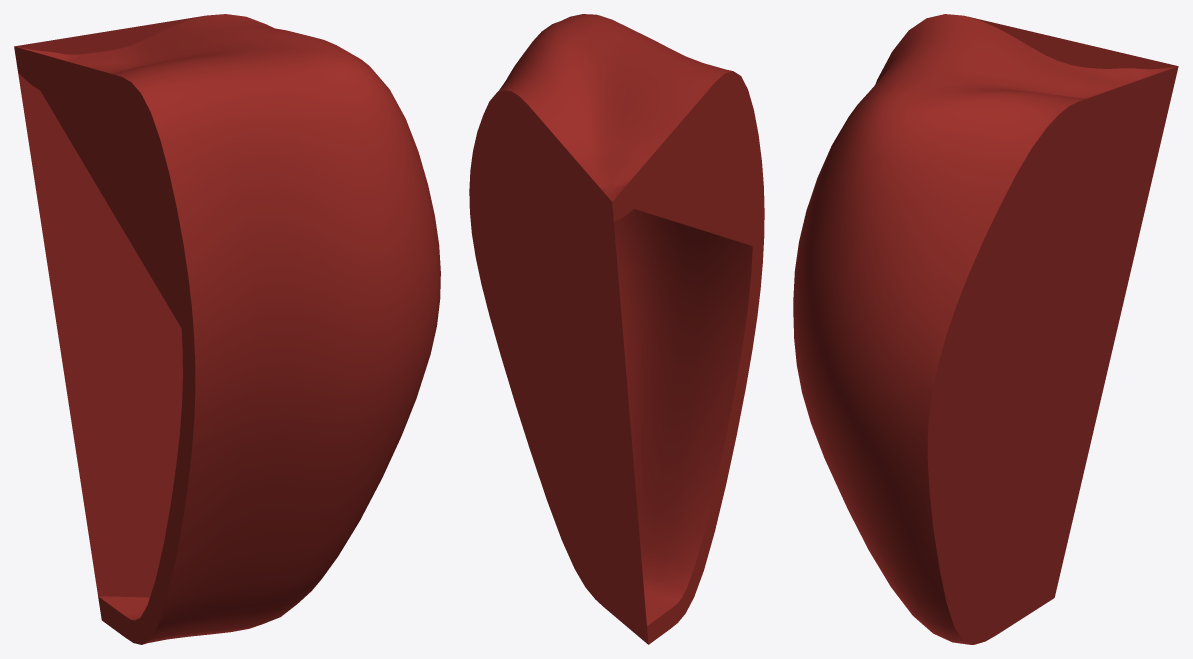
The model's file is Pepper_Slice_02.fbx.
3 renders of one model, left to right at view 1: azimuth 30°, elevation 25°; view 2: azimuth 150°, elevation 25°; view 3: azimuth 270°, elevation 25°, orthographic. The views are drawn at different scales.
Visible parts, largest first — view 1: Pepper; view 2: Pepper; view 3: Pepper.
Boxes of the visible parts, x1=… form: Pepper: x1=14, y1=14, x2=440, y2=644; Pepper: x1=469, y1=14, x2=764, y2=644; Pepper: x1=793, y1=14, x2=1178, y2=644.
Bounding box in the file's own units: 1872 × 3744 × 2281.
